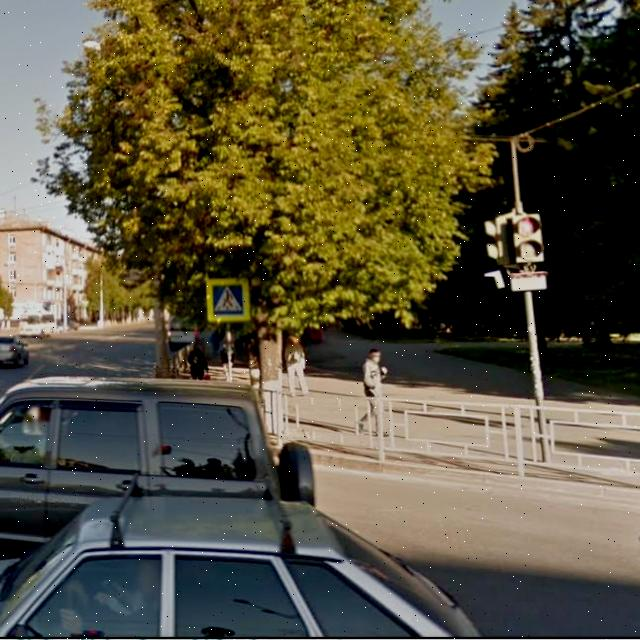Przejscie dla pieszych: (204, 274, 252, 326)
